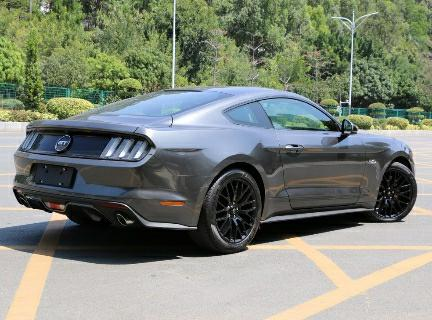car: (9, 84, 423, 252)
